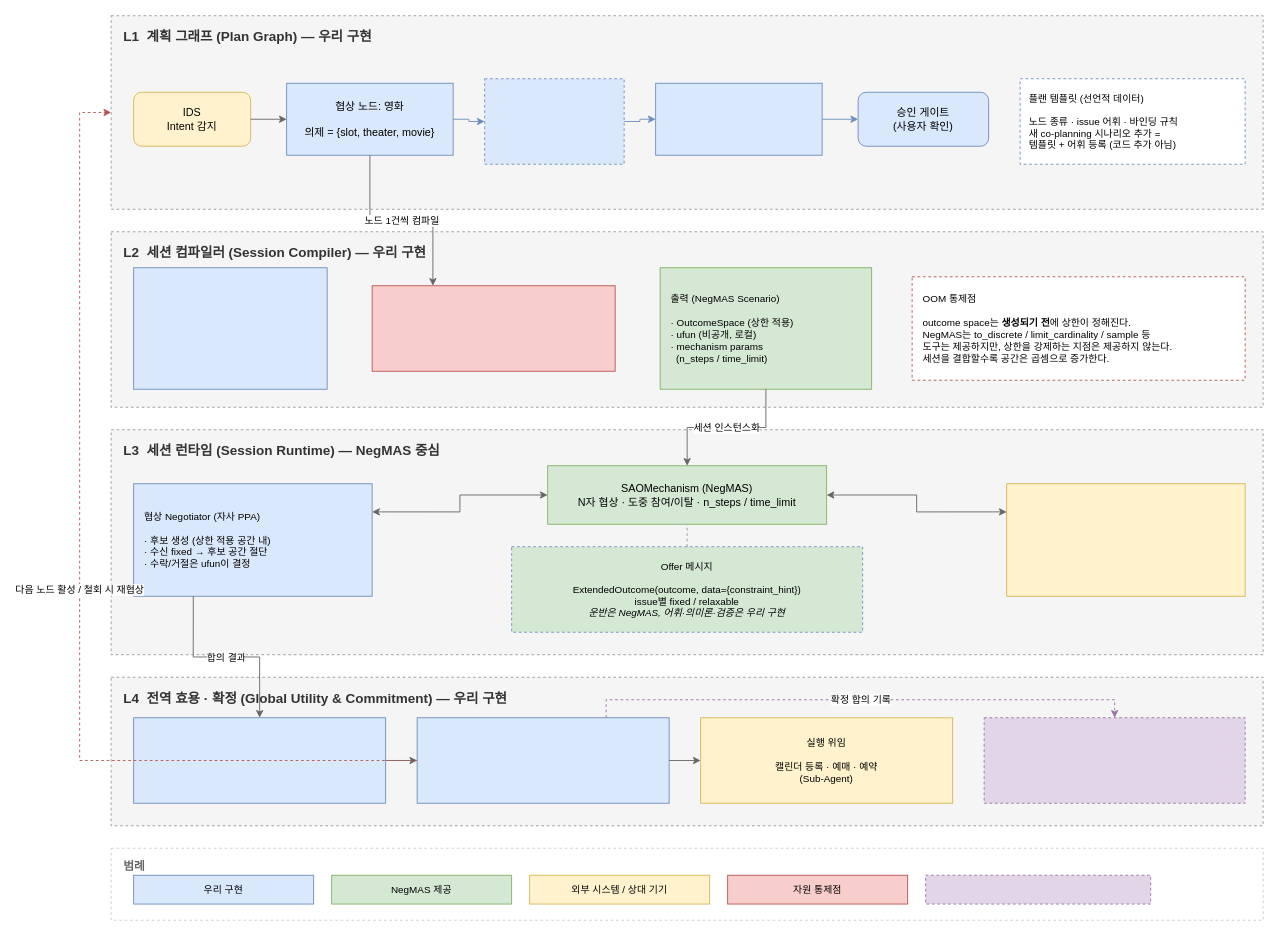
This 1279x936 diagram has some shape labels left out. The centre of each missing label's shape, as x and y in pixels:
노드 확정 · 보류 · 철회 후행 노드 활성화 철회 시 재협상 트리거: (542,760)
바인딩 영화.종료시각 → 식사.slot 하한 영화.상영관 → 식사.area 후보: (554,121)
상대 PPA Negotiator (자사 동일 구현) fixed 만족 불가 시 Offer 또는 계획 분기 거절: (1125,539)
세션 컴파일러 어휘 축소 · 이산화 수준 결정 공간 상한 강제: (493,328)
오프라인 전용 (런타임 불가): (1038,889)
오프라인 최적성 평가 파레토 · Nash · Kalai 근접도 전 참여자 ufun + 전량 열거 필요 → 온디바이스 런타임 계산 불가: (1114,760)
입력 · 노드 의제 (issue 목록) · 상위 세션 확정 결과 · 로컬 사용자 컨텍스트 · issue 어휘 카탈로그: (230,328)
전역 효용 관리 계획 전체에 대한 사용자 효용 유지 (세션별 지역 효용과 구분): (259,760)
협상 노드: 식사 의제 = {slot, area, cuisine, price}: (738,118)
